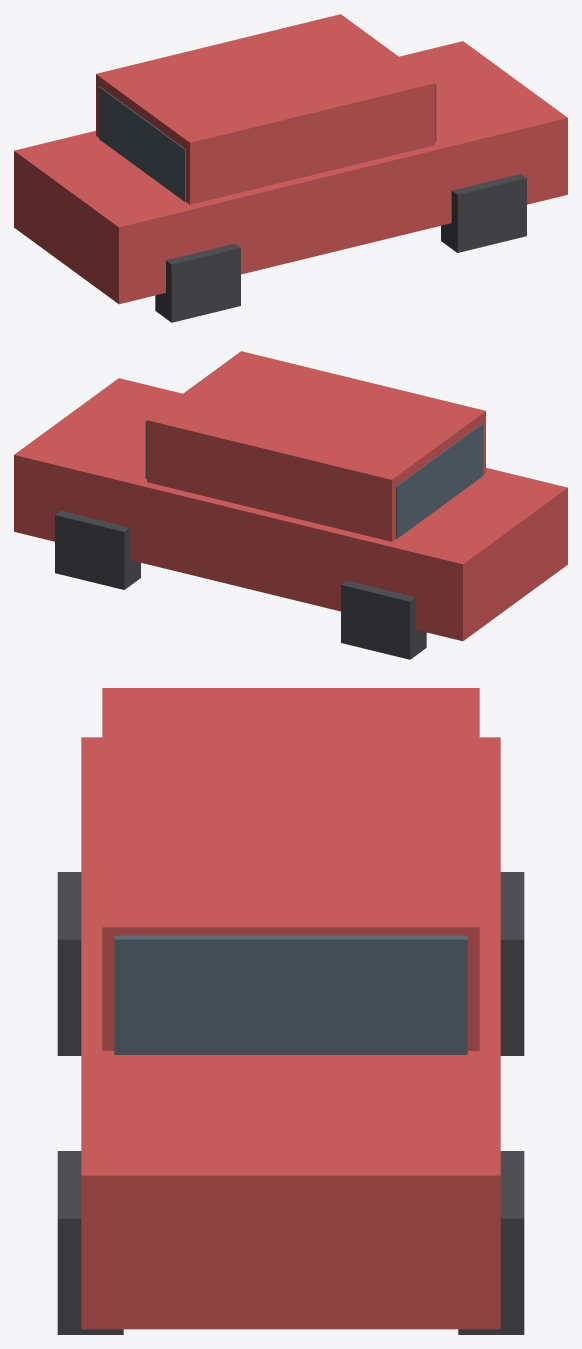
File: AED_Car.gltf
3 views of the same model, one above another, from view 1: azimuth 30°, elevation 25°; view 2: azimuth 150°, elevation 25°; view 3: azimuth 270°, elevation 25° (orthographic). The views are drawn at different scales.
Visible parts, largest first — view 1: AED_Car; view 2: AED_Car; view 3: AED_Car.
Boxes of the visible parts, bbox=[...] form: AED_Car: bbox=[14, 14, 567, 322]; AED_Car: bbox=[14, 351, 567, 659]; AED_Car: bbox=[57, 688, 524, 1334].
Size of the model in its own units: 4.4 by 1.54 by 1.98.
